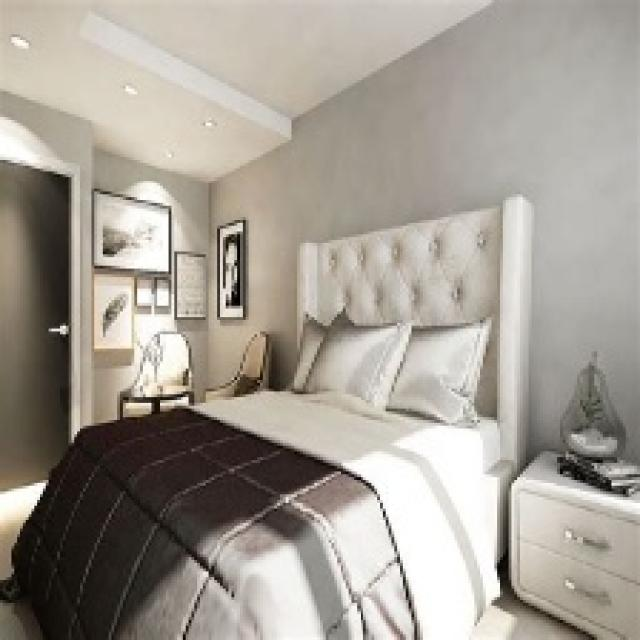Bed: (0, 191, 531, 637)
